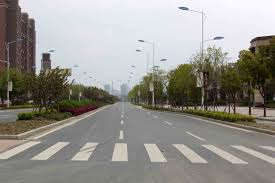strada: (26, 99, 275, 137)
striscie pedonali: (0, 140, 275, 166)
